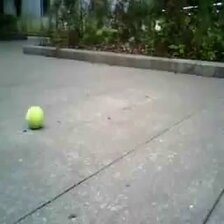tennis: (26, 106, 44, 127)
